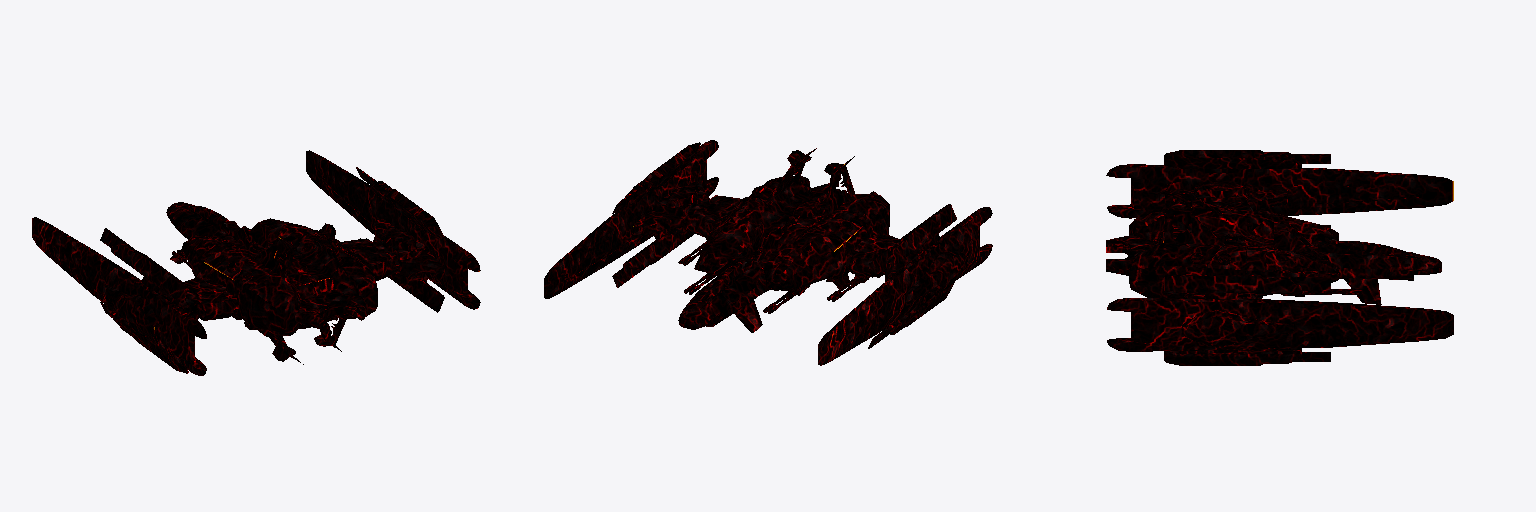
3 renders of one model, left to right at view 1: azimuth 30°, elevation 25°; view 2: azimuth 150°, elevation 25°; view 3: azimuth 270°, elevation 25°, orthographic.
Visible parts, largest first — view 1: objBox03; view 2: objBox03; view 3: objBox03.
Boxes of the visible parts, box(x1,y1,x2,y2) form: objBox03: box(32, 150, 480, 375); objBox03: box(544, 140, 992, 365); objBox03: box(1106, 150, 1453, 365).
Bounding box in the file's own units: 8.84 × 3.36 × 8.59.
1 materials, 1 textured.